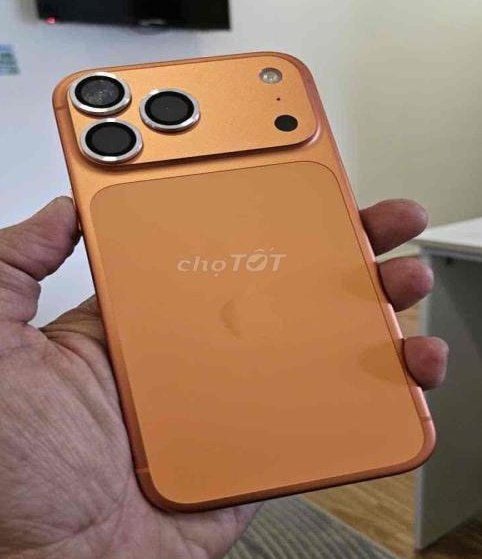scratch: (73, 72, 139, 120)
